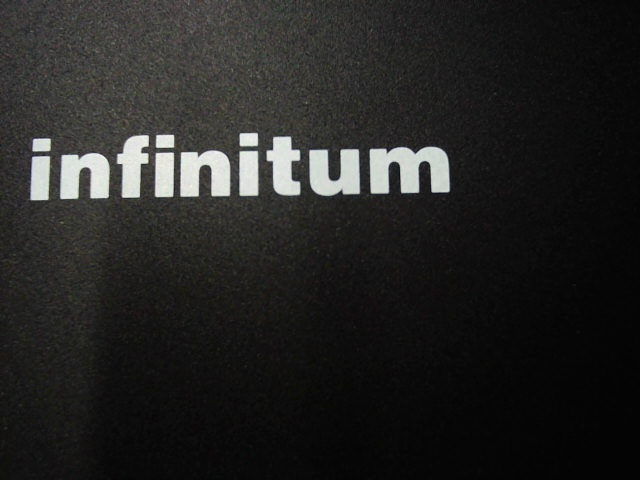BK_infinitum: (22, 115, 457, 216)
